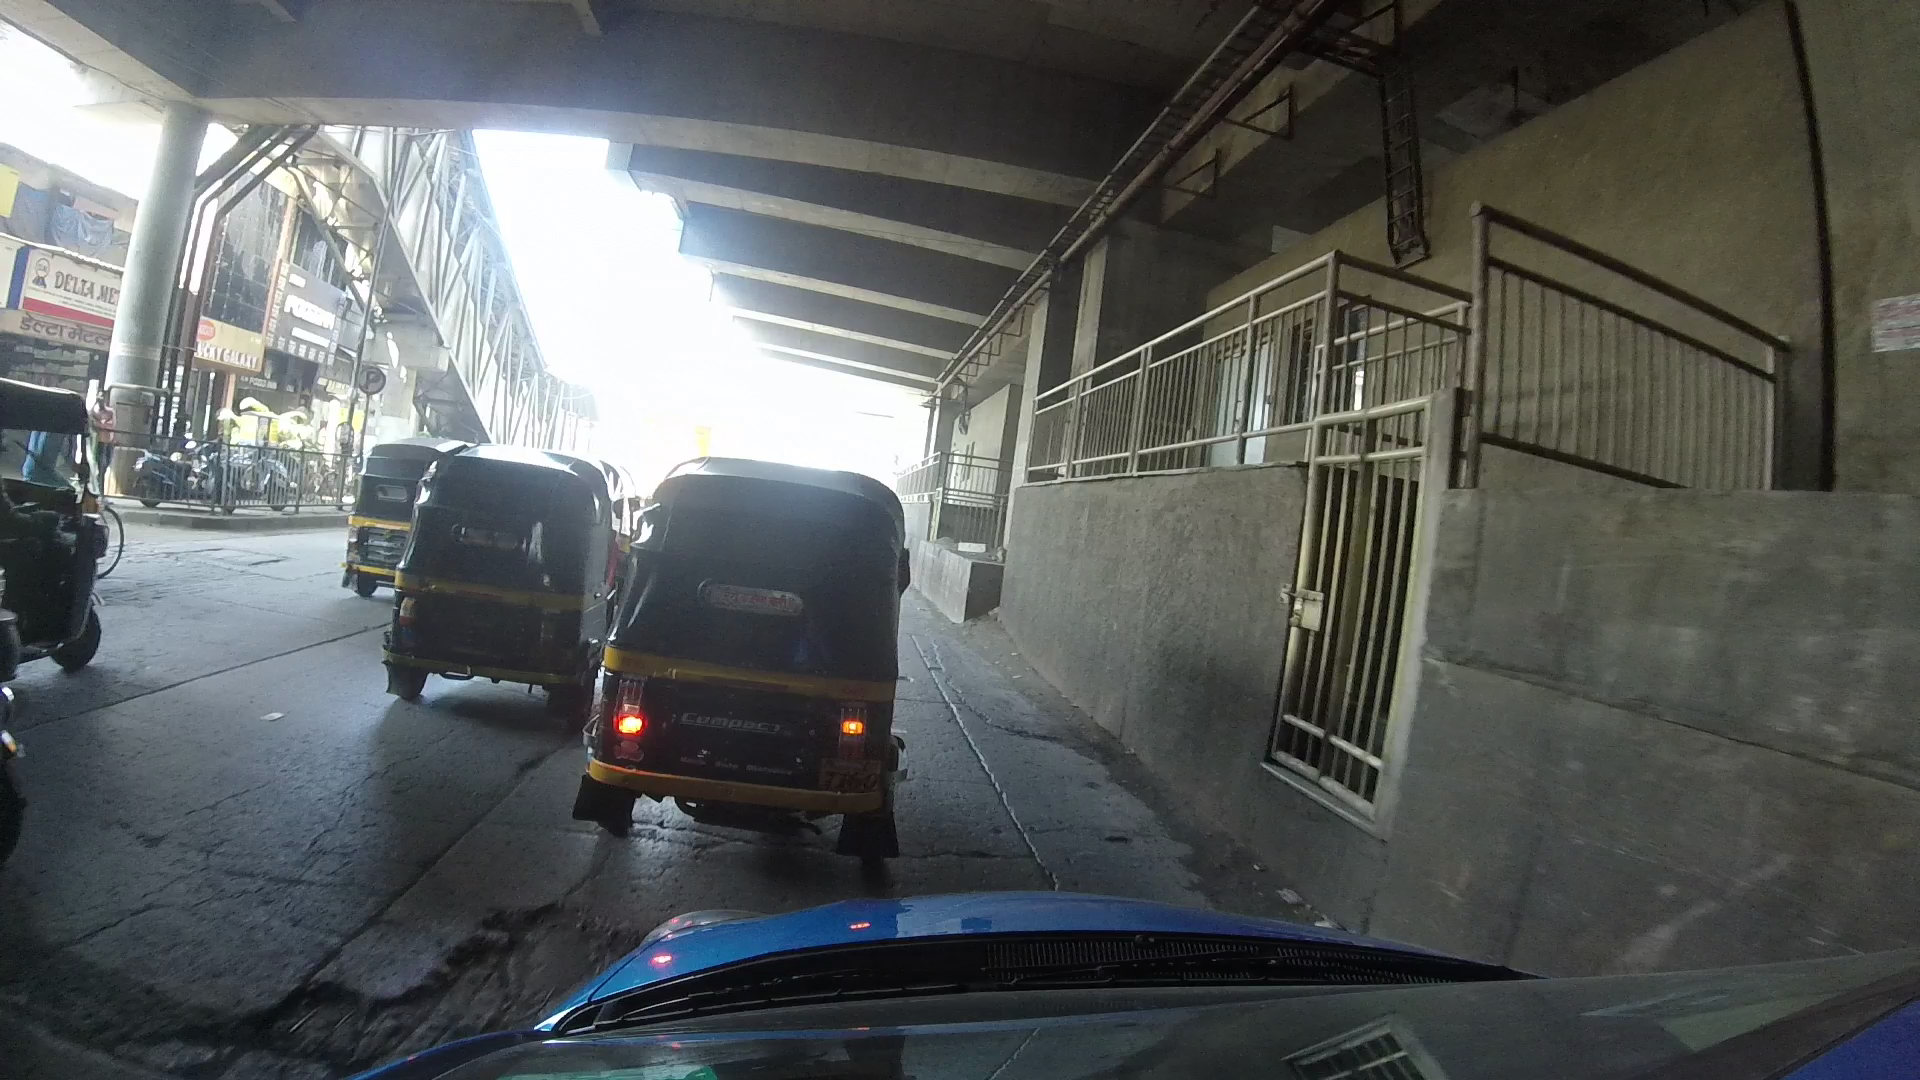rickshaw: (579, 446, 928, 829), (386, 455, 611, 680), (1, 367, 127, 657), (323, 405, 462, 592)
